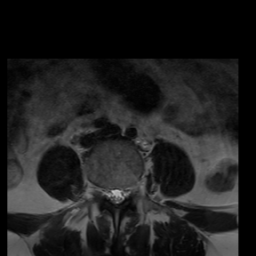CCS_stenosis: (113, 180, 120, 210)
LFS_normal: (127, 176, 135, 200)
LLS_normal: (120, 180, 127, 205)
RFS_normal: (98, 179, 106, 203)
RLS_normal: (106, 179, 113, 206)
